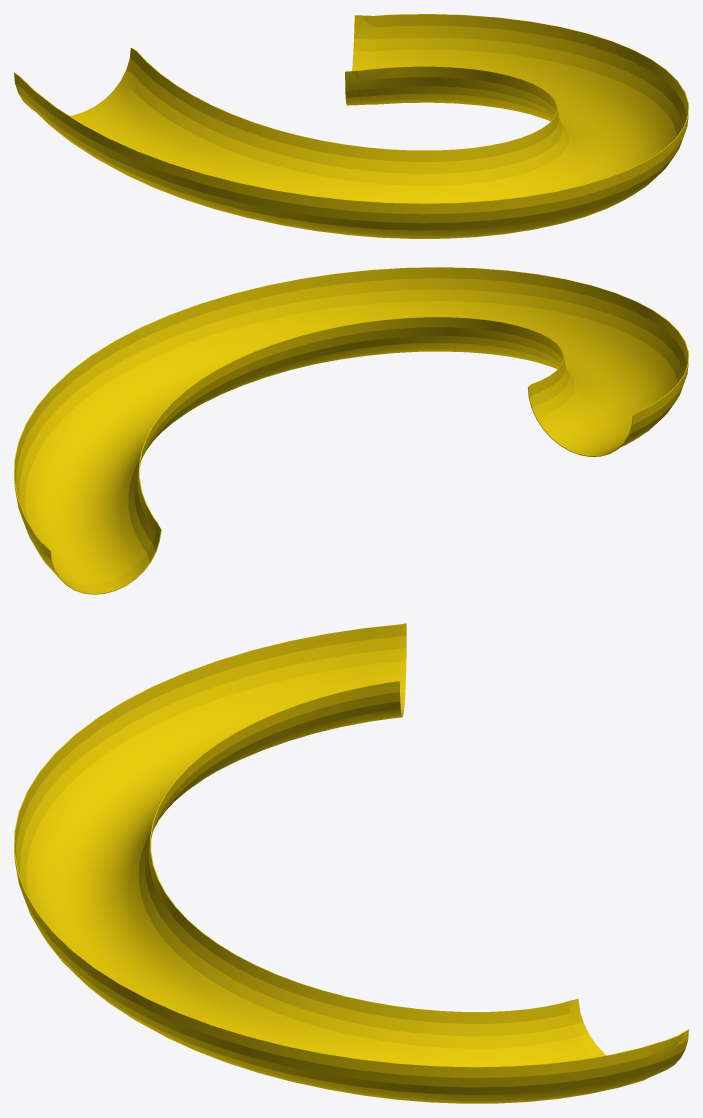
Rendered from kaydırak.fbx.
3 views of the same model, one above another, from view 1: azimuth 30°, elevation 25°; view 2: azimuth 150°, elevation 25°; view 3: azimuth 270°, elevation 25° (orthographic). The views are drawn at different scales.
Parts seen in each view (by area): view 1: kaydırak; view 2: kaydırak; view 3: kaydırak.
Part boxes in pixels (x1,y1,x2,y2): kaydırak: [14, 14, 688, 238]; kaydırak: [14, 267, 688, 594]; kaydırak: [14, 623, 688, 1103].
Bounding box in the file's own units: 803 × 269 × 736.
